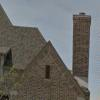Chimney: (66, 7, 95, 83)
